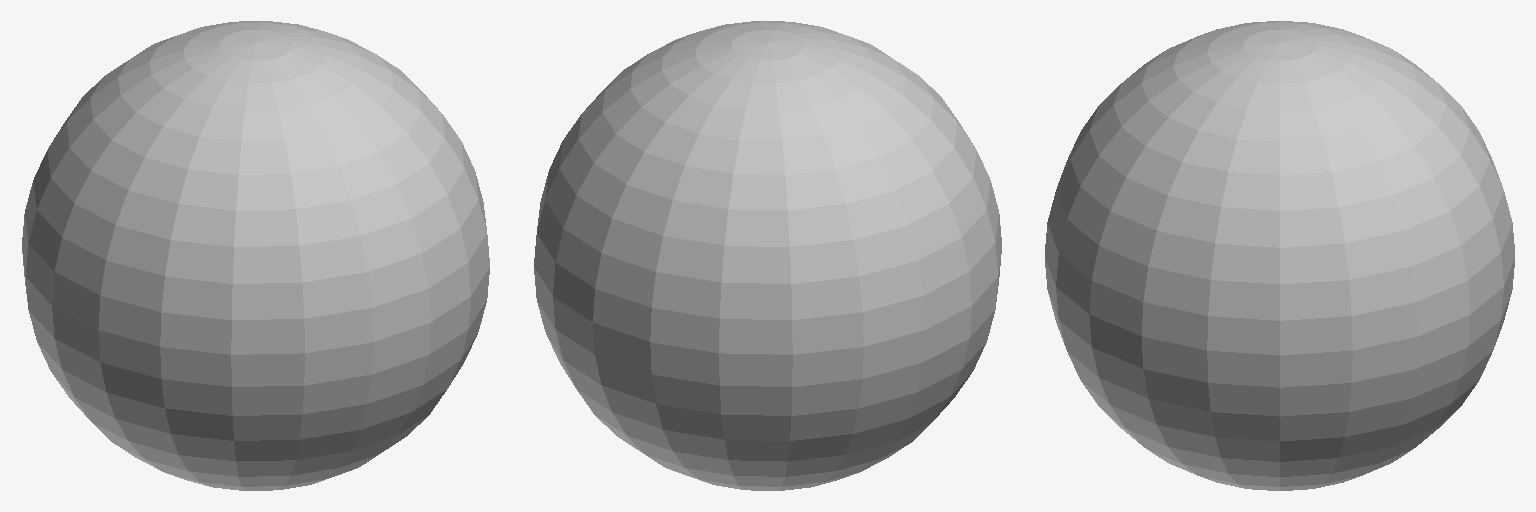
The model's file is skybox.obj.
3 renders of one model, left to right at view 1: azimuth 30°, elevation 25°; view 2: azimuth 150°, elevation 25°; view 3: azimuth 270°, elevation 25°, orthographic.
Visible parts, largest first — view 1: skybox; view 2: skybox; view 3: skybox.
Boxes of the visible parts, box(x1,y1,x2,y2) form: skybox: box(22, 21, 489, 490); skybox: box(534, 21, 1001, 490); skybox: box(1045, 21, 1514, 490).
Size of the model in its own units: 43.64 by 43.64 by 43.64.